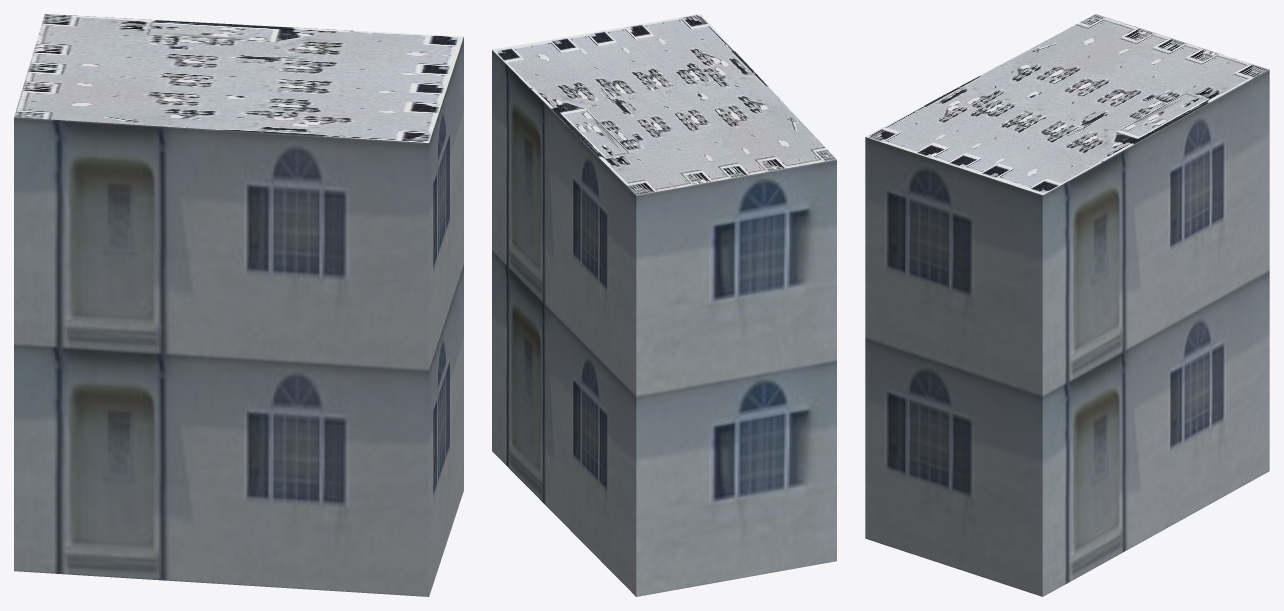
The model's file is ResTex__1945.fbx.
The picture shows the model from 3 angles, left to right: view 1: azimuth 30°, elevation 25°; view 2: azimuth 150°, elevation 25°; view 3: azimuth 270°, elevation 25°; orthographic projection. The views are drawn at different scales.
Parts seen in each view (by area): view 1: CityEngineMaterial_17_m, CityEngineMaterial_8_m; view 2: CityEngineMaterial_17_m, CityEngineMaterial_8_m; view 3: CityEngineMaterial_17_m, CityEngineMaterial_8_m.
Part boxes in pixels (<box>): CityEngineMaterial_17_m: <box>14,37,463,596</box>; CityEngineMaterial_8_m: <box>14,14,463,142</box>; CityEngineMaterial_17_m: <box>492,50,836,596</box>; CityEngineMaterial_8_m: <box>492,14,836,195</box>; CityEngineMaterial_17_m: <box>865,69,1269,596</box>; CityEngineMaterial_8_m: <box>866,14,1268,195</box>.
Size of the model in its own units: 5.81 by 6 by 5.47.
Materials: 2 (2 with a texture image).
